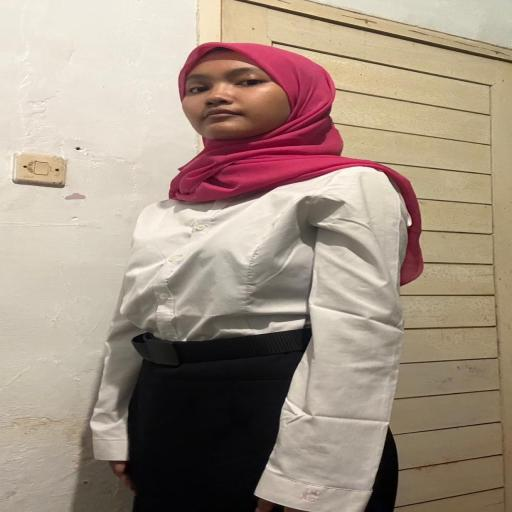kemeja_benar: (113, 182, 424, 342)
kerudung_benar: (144, 39, 396, 195)
rok_benar: (121, 366, 407, 512)
sabuk_ada: (119, 334, 331, 370)
